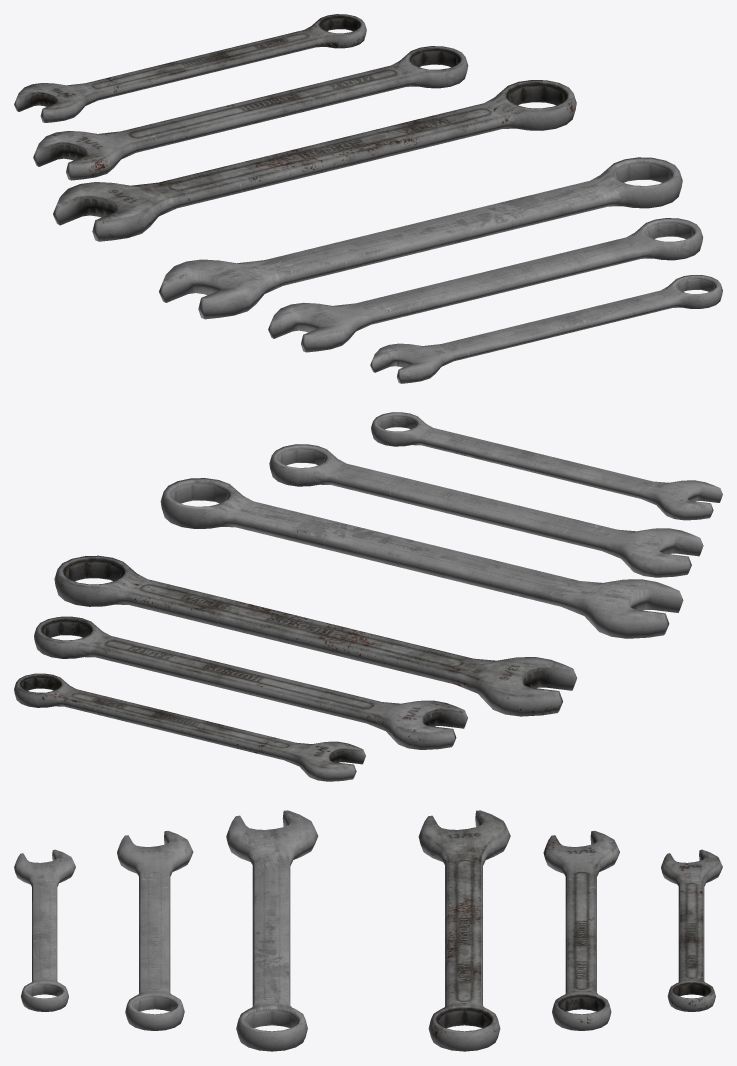
File: combination_wrench_cleandirty.glb
3 renders of one model, top to bottom at view 1: azimuth 30°, elevation 25°; view 2: azimuth 150°, elevation 25°; view 3: azimuth 270°, elevation 25°, orthographic. The views are drawn at different scales.
Parts seen in each view (by area): view 1: Wrench_L_Clean_low, Wrench_L_Dirty_low, Wrench_M_Clean_low, Wrench_S_Dirty_low, Wrench_M_Dirty_low, Wrench_S_Clean_low; view 2: Wrench_L_Clean_low, Wrench_L_Dirty_low, Wrench_S_Dirty_low, Wrench_M_Clean_low, Wrench_M_Dirty_low, Wrench_S_Clean_low; view 3: Wrench_L_Clean_low, Wrench_L_Dirty_low, Wrench_M_Clean_low, Wrench_S_Dirty_low, Wrench_M_Dirty_low, Wrench_S_Clean_low.
Boxes of the visible parts, box(x1,y1,x2,y2) form: Wrench_L_Clean_low: box(159, 157, 682, 319); Wrench_L_Dirty_low: box(53, 80, 576, 241); Wrench_M_Clean_low: box(268, 218, 703, 352); Wrench_S_Dirty_low: box(33, 46, 468, 180); Wrench_M_Dirty_low: box(14, 14, 366, 122); Wrench_S_Clean_low: box(370, 275, 722, 383); Wrench_L_Clean_low: box(160, 478, 683, 638); Wrench_L_Dirty_low: box(54, 555, 576, 716); Wrench_S_Dirty_low: box(34, 616, 467, 749); Wrench_M_Clean_low: box(269, 444, 703, 577); Wrench_M_Dirty_low: box(14, 673, 365, 781); Wrench_S_Clean_low: box(371, 412, 722, 520); Wrench_L_Clean_low: box(226, 810, 318, 1051); Wrench_L_Dirty_low: box(418, 810, 510, 1051); Wrench_M_Clean_low: box(117, 831, 193, 1030); Wrench_S_Dirty_low: box(543, 830, 619, 1030); Wrench_M_Dirty_low: box(661, 849, 722, 1011); Wrench_S_Clean_low: box(14, 849, 75, 1011).
Bounding box in the file's own units: 1.51 × 0.0566 × 2.
2 materials, 2 textured.
